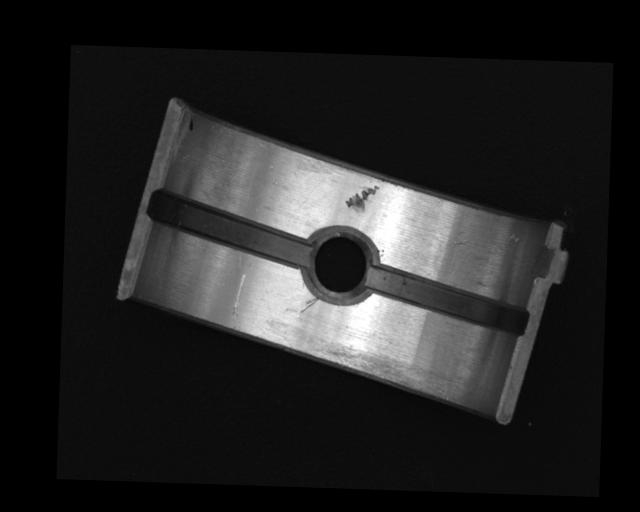blot: (188, 115, 195, 133)
bruise: (344, 184, 381, 215), (446, 238, 467, 249), (509, 232, 522, 243)
gap: (150, 191, 311, 269), (365, 270, 530, 334)
hole: (302, 230, 378, 304)
nick: (231, 272, 247, 332), (300, 297, 319, 313)
scratch: (307, 339, 457, 402)
